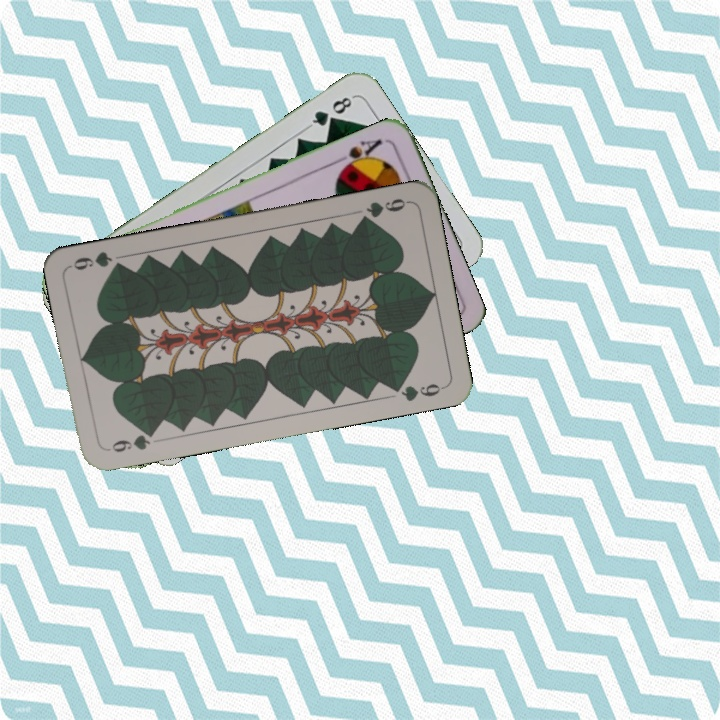G8: (304, 92, 357, 131)
G9: (355, 194, 412, 226), (103, 426, 159, 455)
SA: (331, 135, 385, 175)
